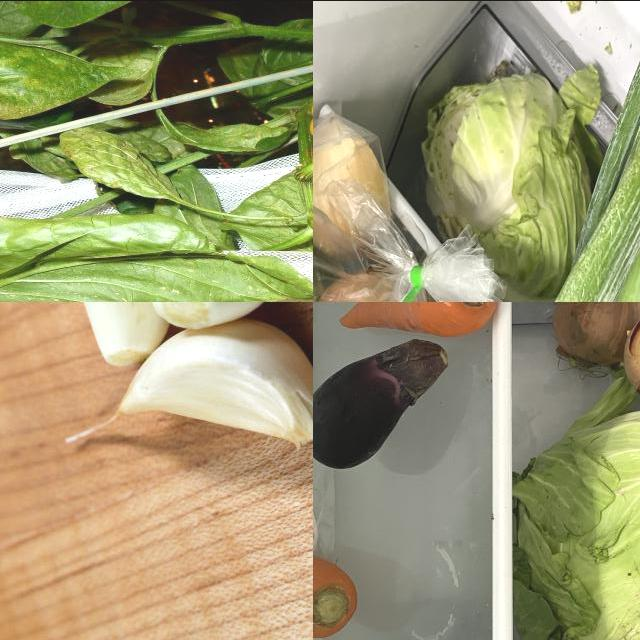cabbage: (422, 67, 596, 302), (511, 373, 640, 640)
carrot: (337, 302, 504, 341), (314, 543, 364, 640)
eggplant: (314, 337, 451, 472)
garlic: (108, 318, 314, 447), (64, 302, 173, 364)
onion: (513, 1, 640, 302), (314, 123, 390, 253), (551, 302, 640, 378)
